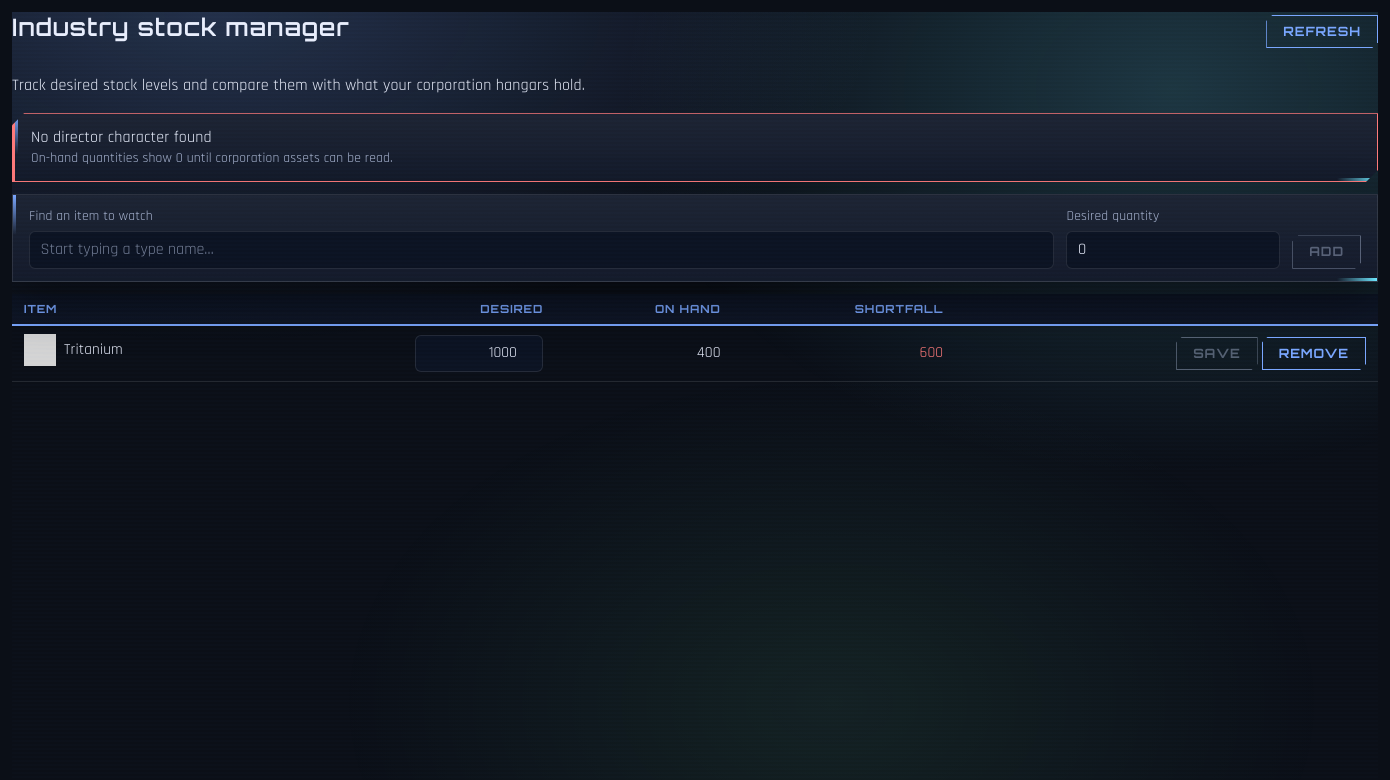
Test: StockManager › shows on hand and shortfall, warns about corporation assets and only enables Save on a change
Expected: the message shows "No director character found", [31, 127, 212, 148]
Expected: the button "Save" is disabled, [1176, 337, 1258, 370]
Replace the text in the number field named "Desired quantity of Tritanium" with "1200" at [479, 353], box [415, 335, 543, 372]
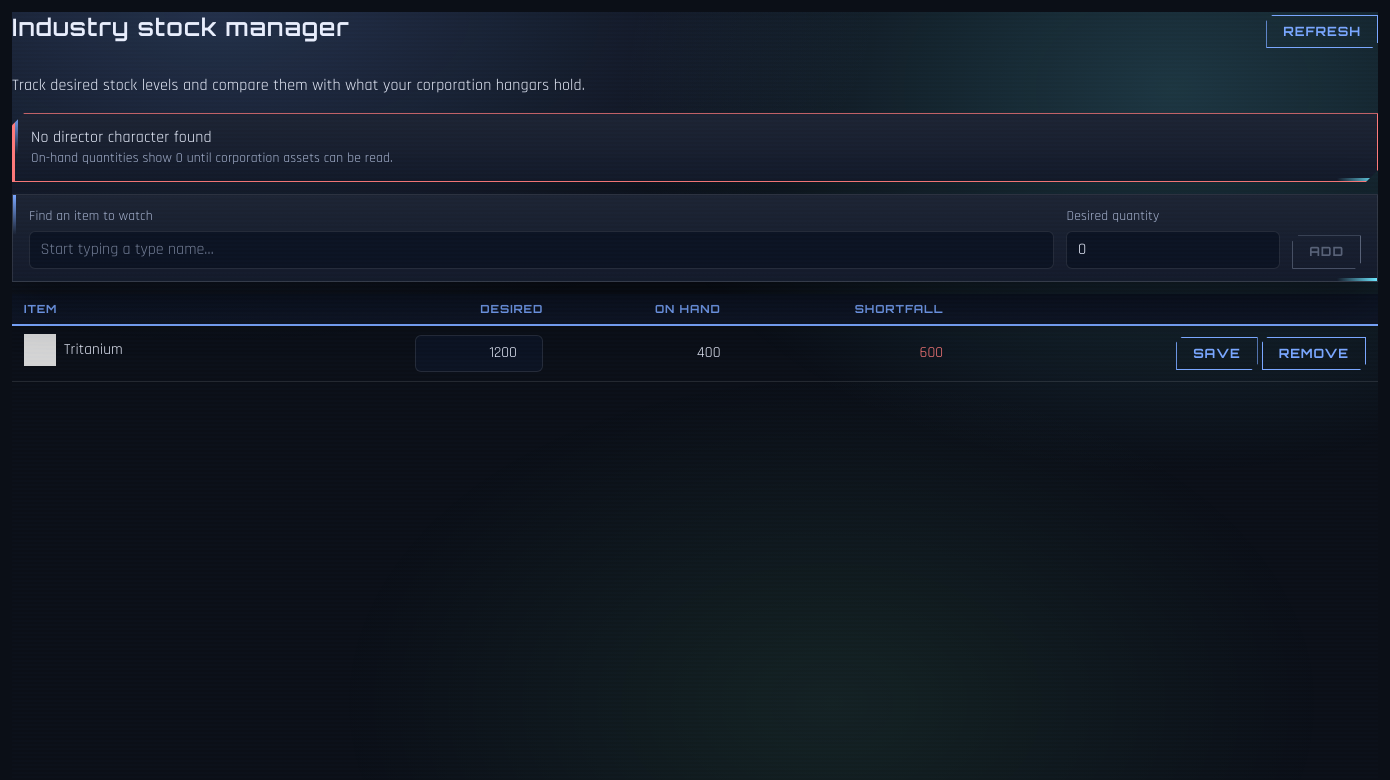
Expected: the button "Save" is enabled, [1176, 337, 1258, 370]
Replace the text in the number field named "Desired quantity of Tritanium" with "-3" at [479, 353], box [415, 335, 543, 372]
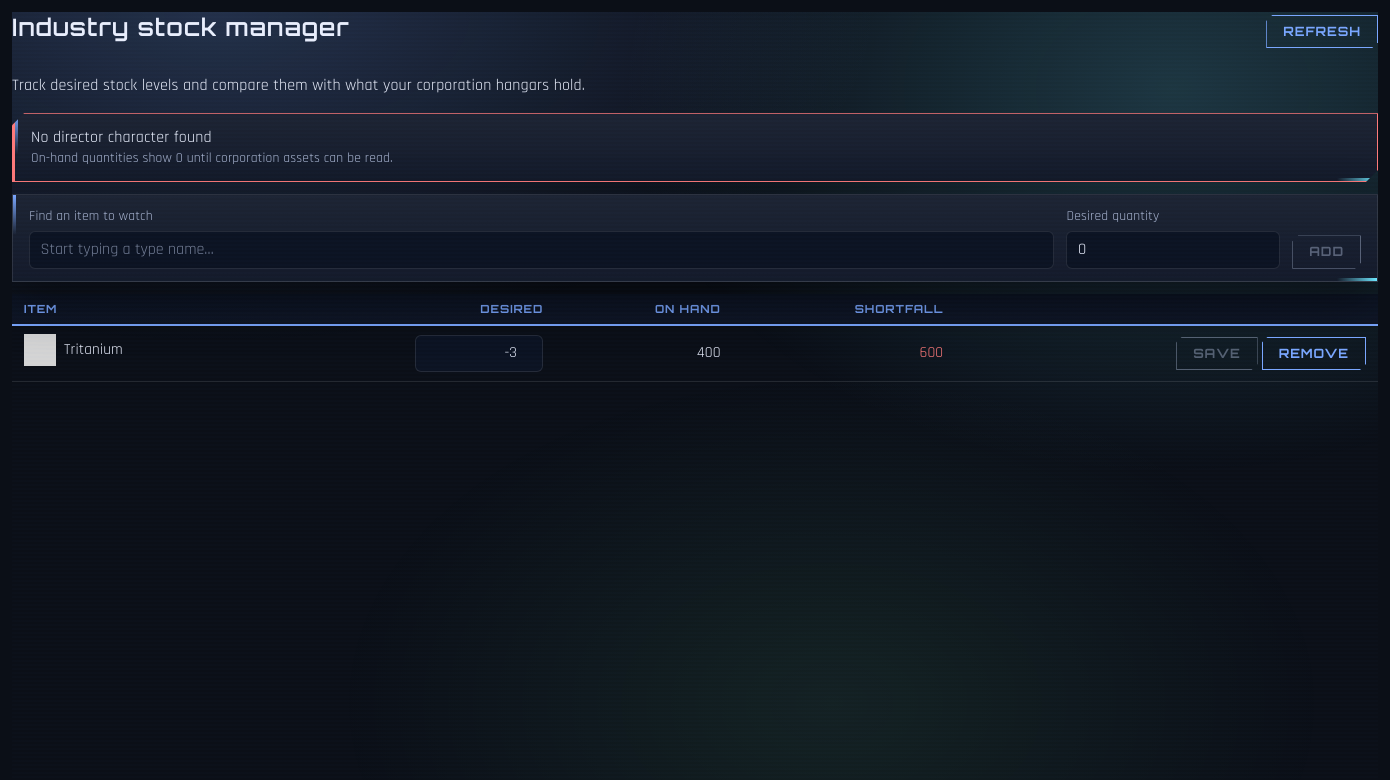
Expected: the button "Save" is disabled, [1176, 337, 1258, 370]
